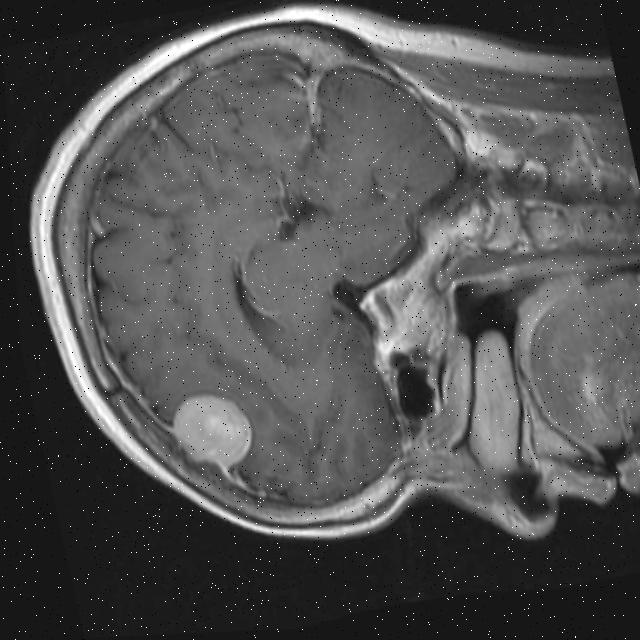Meningioma: (147, 383, 263, 498)
